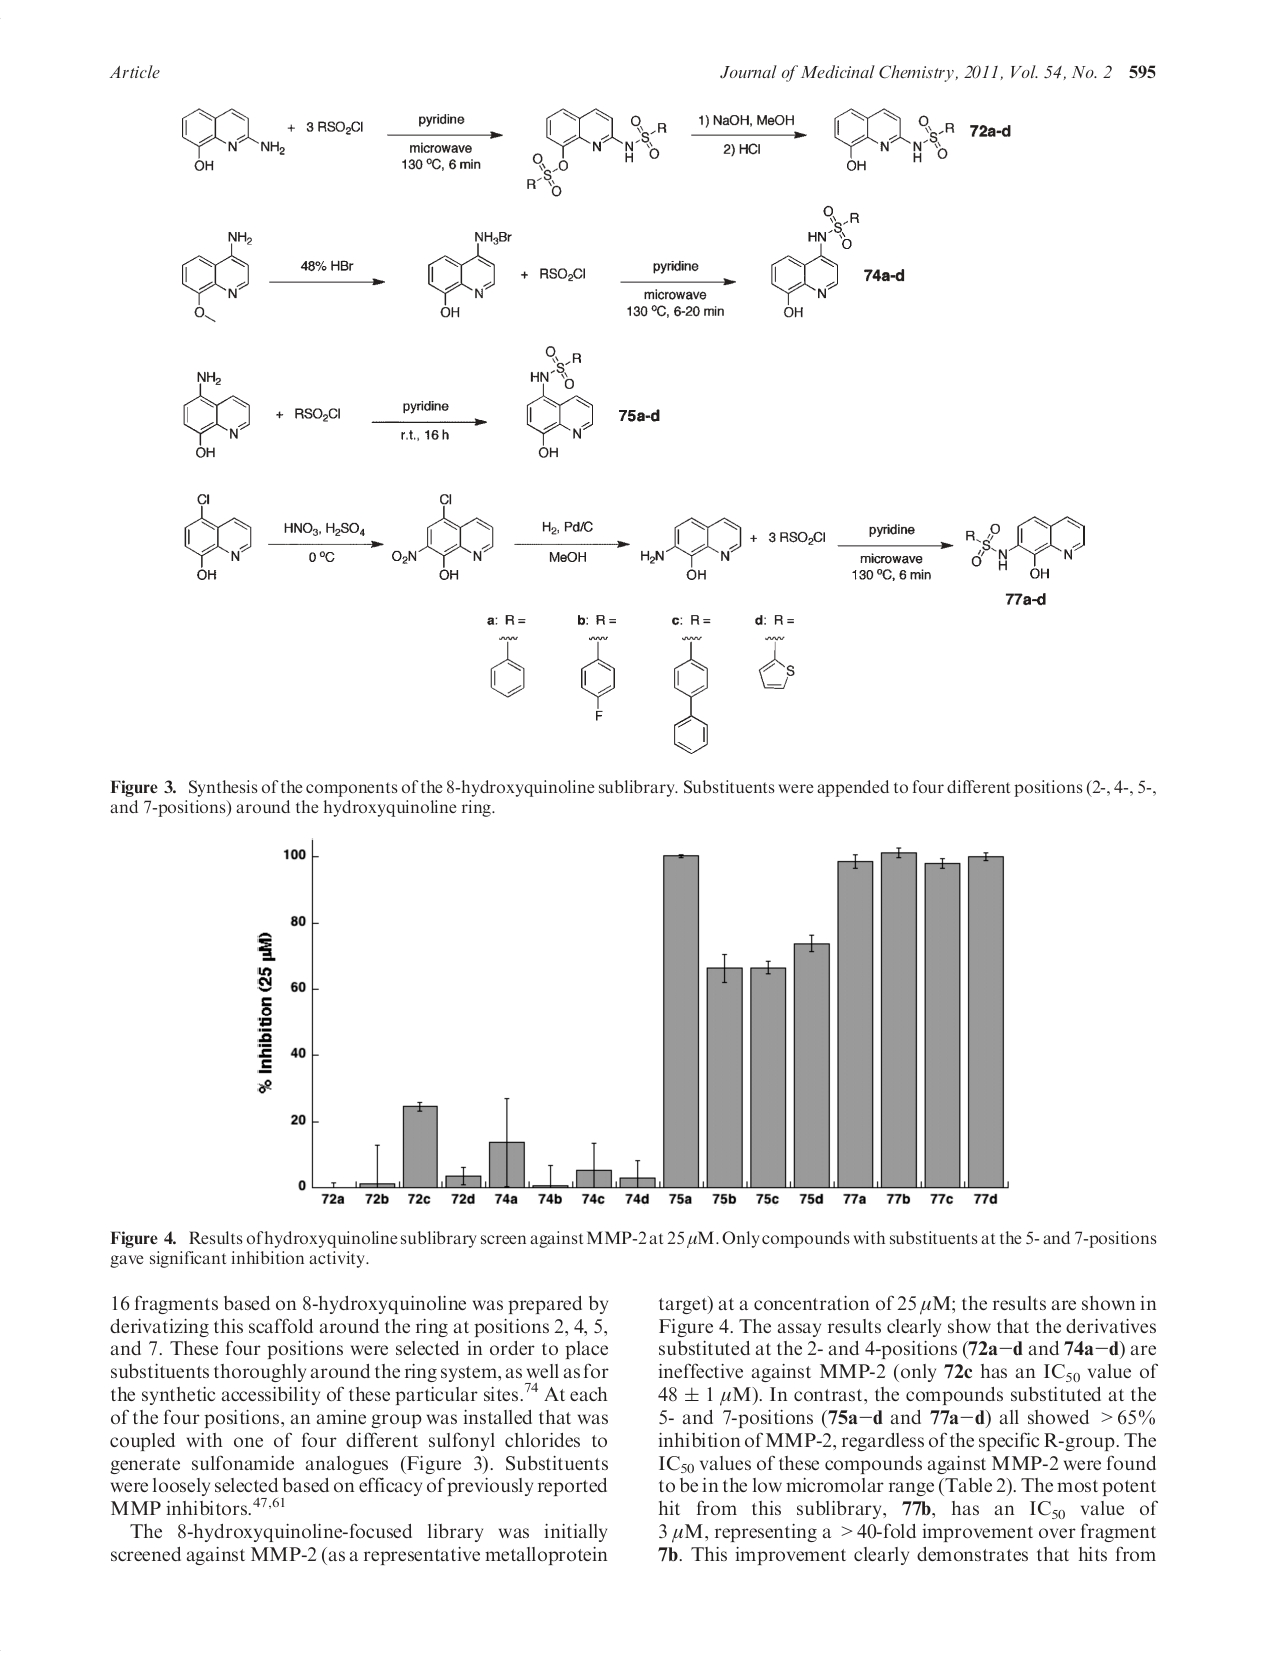exist_molecular: (523, 102, 668, 201), (767, 202, 860, 321), (390, 487, 497, 585), (830, 102, 957, 176), (963, 512, 1089, 582), (423, 225, 513, 322), (523, 344, 597, 459), (176, 102, 287, 176), (178, 227, 257, 327), (178, 488, 257, 582), (637, 512, 746, 580), (176, 366, 253, 461), (668, 629, 719, 755), (574, 632, 625, 723), (485, 630, 531, 698), (755, 632, 797, 696)
